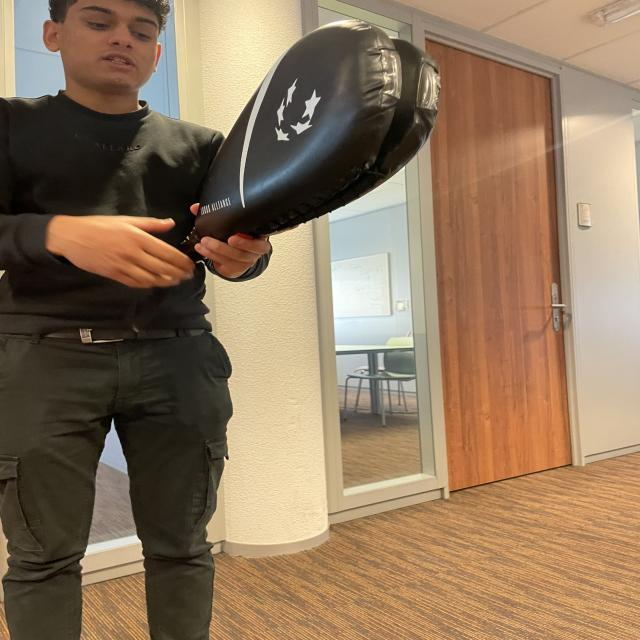paddle: (210, 17, 424, 229)
